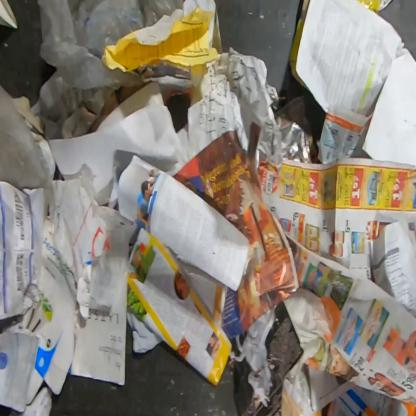cardboard: (25, 255, 75, 406)
soft_plastic: (36, 0, 185, 91), (253, 116, 313, 171)
